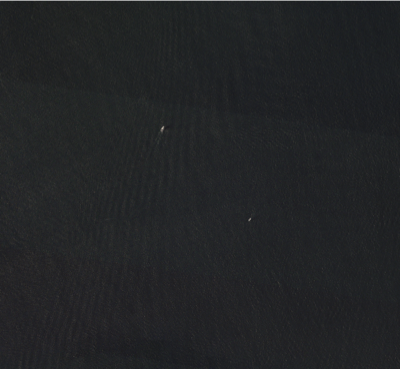boat: (246, 215, 252, 222), (161, 126, 165, 132)
